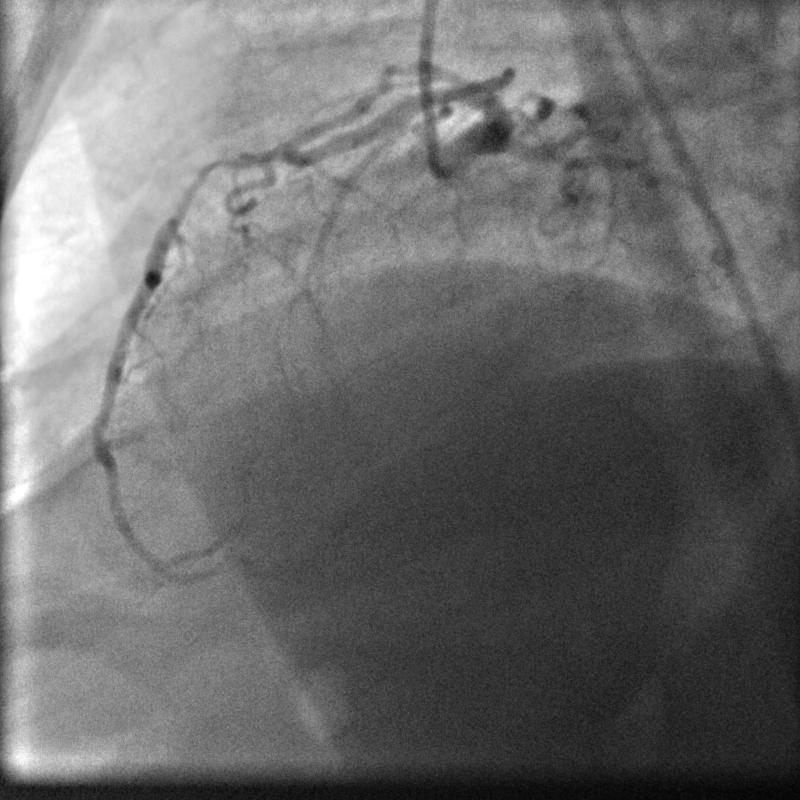Stenosis: (167, 159, 230, 211)
